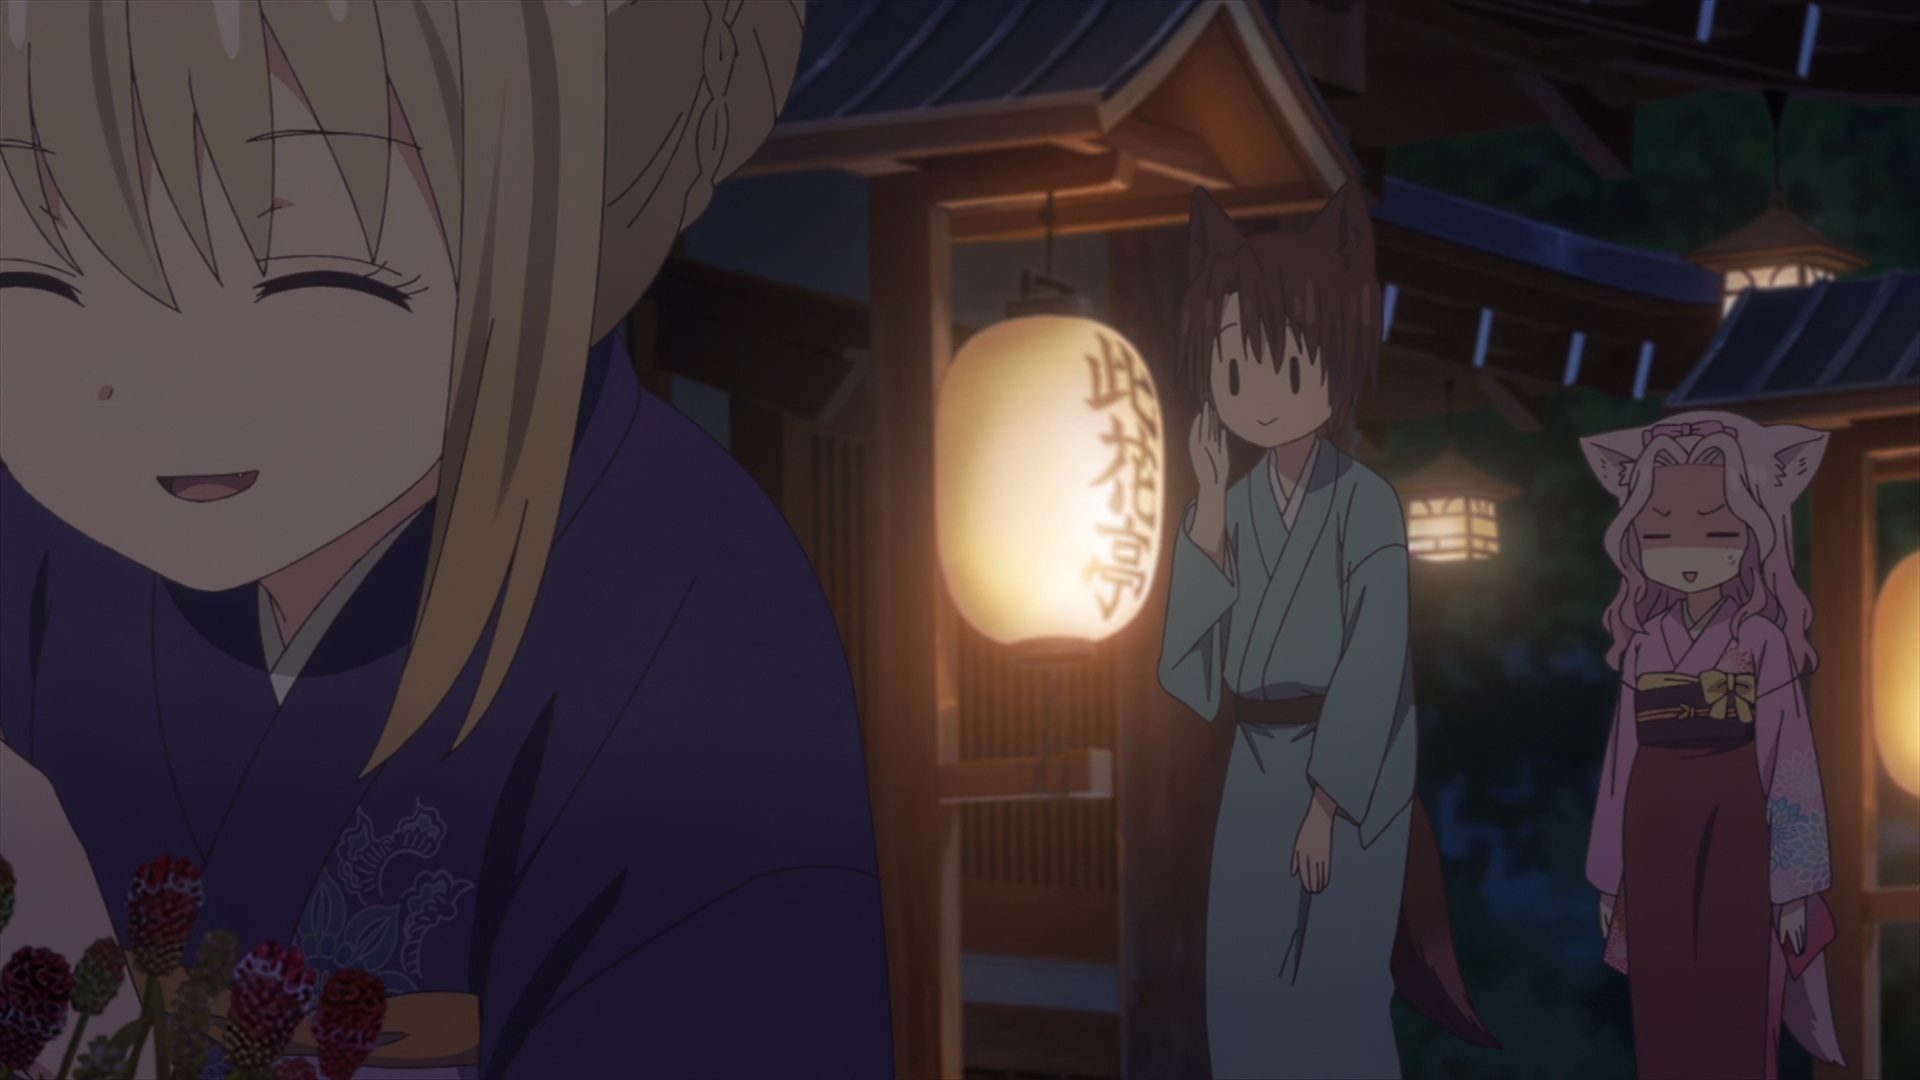枣: (1156, 175, 1480, 1080)
桐: (1, 1, 890, 1080)
莲: (1578, 411, 1847, 1080)
